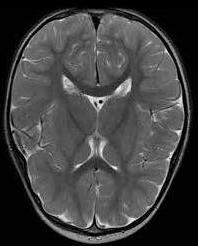Normal_Brain: (19, 1, 198, 234)
